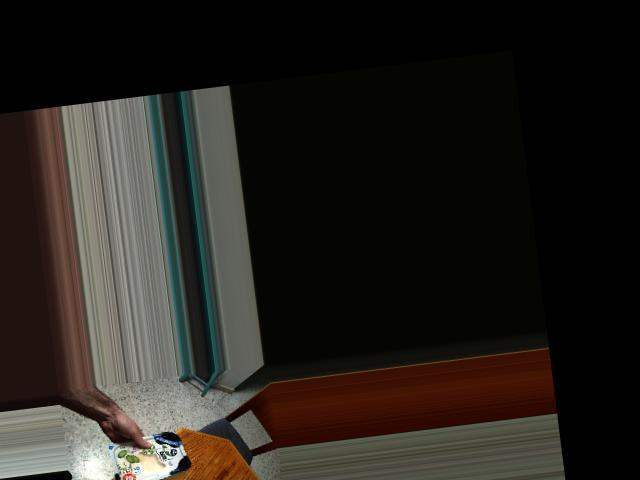cheese: (102, 425, 194, 480)
